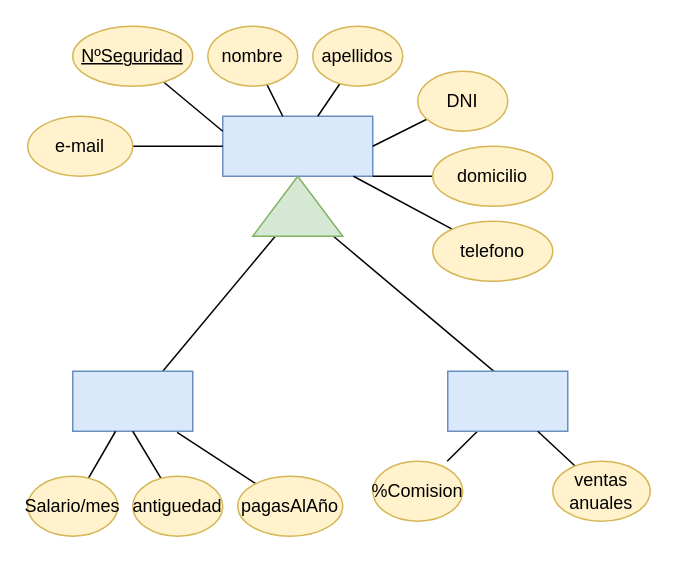
The diagram is 677 pixels wide and 563 high, and some of its shapes have lost their labels. The shapes that lost their labels are listed below. From the top down, each one's centre as x and y in pixels, then its label:
the point at 297,145: Trabajadores
the point at 132,400: nomina
the point at 507,400: comision
